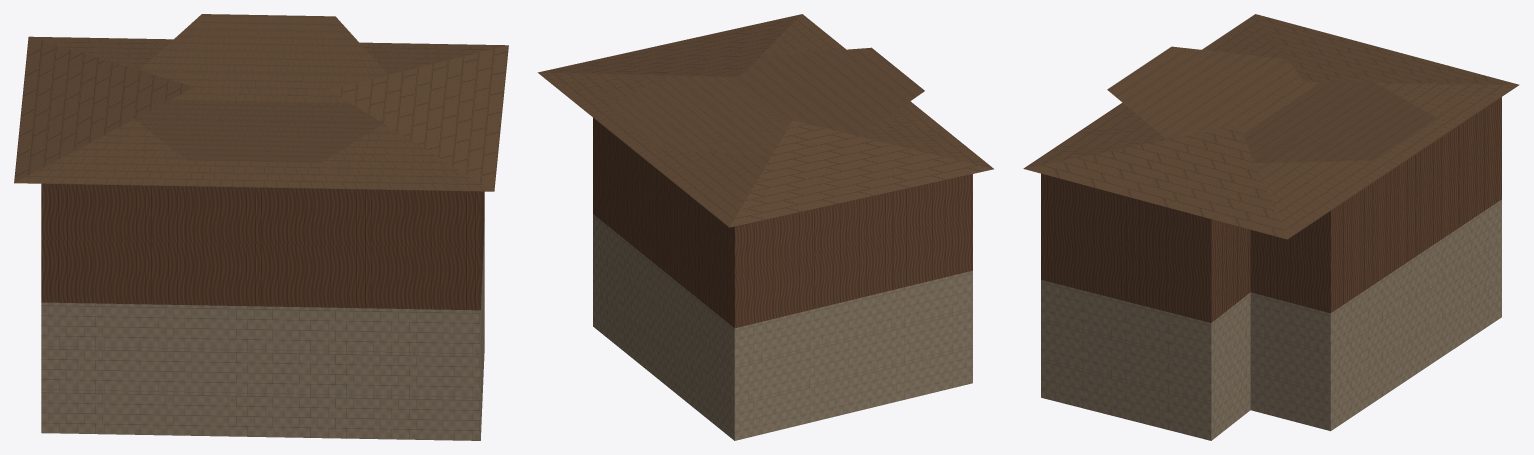
File: bld_c1_17_469.gltf
3 views of the same model, side by side, from view 1: azimuth 30°, elevation 25°; view 2: azimuth 150°, elevation 25°; view 3: azimuth 270°, elevation 25° (orthographic). The views are drawn at different scales.
Parts seen in each view (by area): view 1: bld_c1_17_469; view 2: bld_c1_17_469; view 3: bld_c1_17_469.
Boxes of the visible parts, left/top/right/bottom form: bld_c1_17_469: left=14, top=14, right=508, bottom=440; bld_c1_17_469: left=537, top=14, right=993, bottom=440; bld_c1_17_469: left=1023, top=14, right=1519, bottom=440.
Size of the model in its own units: 20.78 by 10.9 by 19.33.
3 materials, 3 textured.
